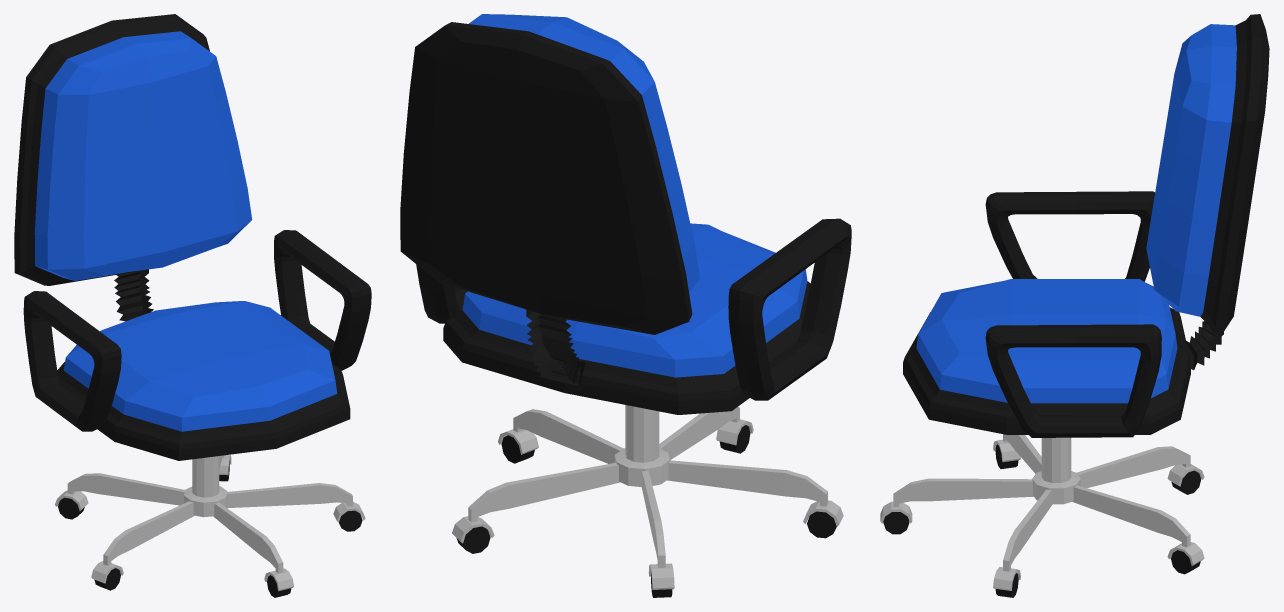
The model's file is OfficeChair.glb.
3 renders of one model, left to right at view 1: azimuth 30°, elevation 25°; view 2: azimuth 150°, elevation 25°; view 3: azimuth 270°, elevation 25°, orthographic. The views are drawn at different scales.
Parts seen in each view (by area): view 1: OfficeChair; view 2: OfficeChair; view 3: OfficeChair.
Part boxes in pixels (left/top/right/bottom): OfficeChair: left=14, top=14, right=371, bottom=597; OfficeChair: left=400, top=14, right=851, bottom=597; OfficeChair: left=880, top=14, right=1269, bottom=597.
Size of the model in its own units: 72.17 by 113 by 80.72.
